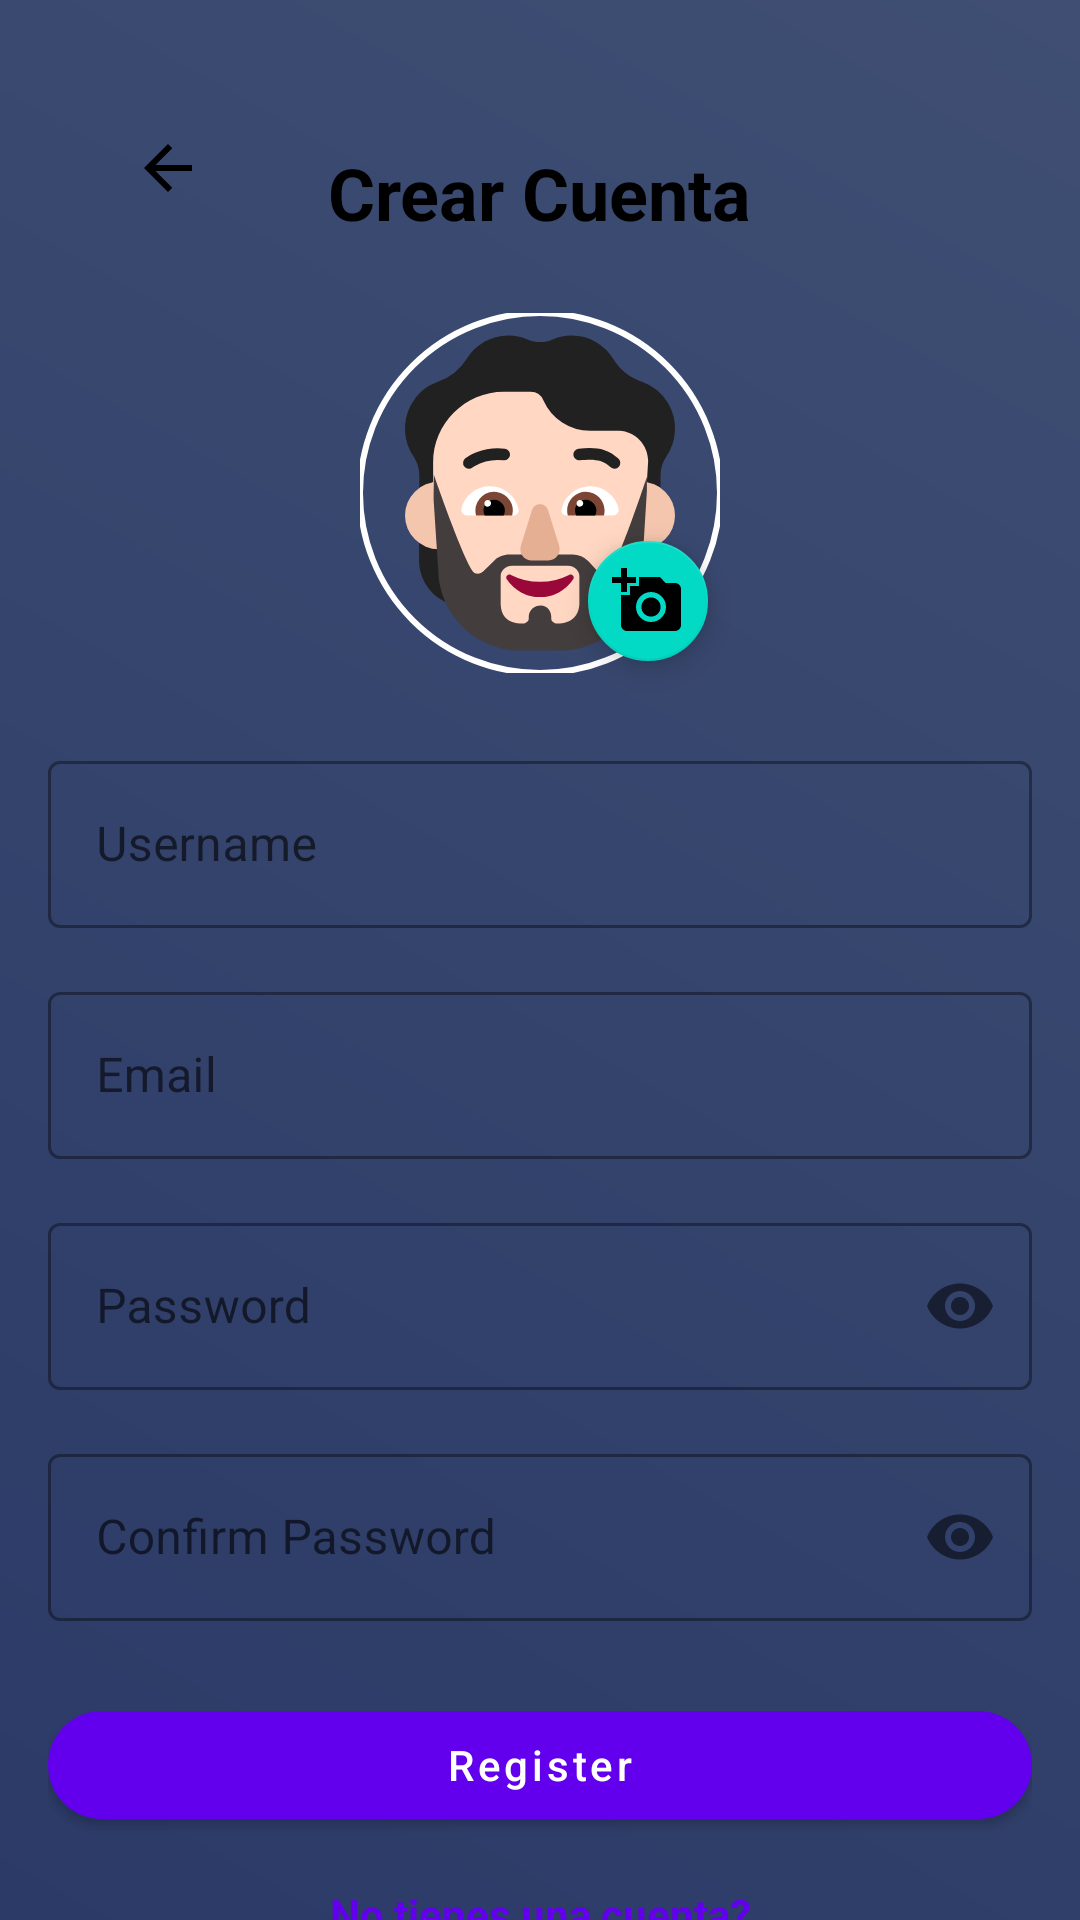

Named icons in this screenshot (1080 × 1920) and their centers, (x,y):
Botón de regreso: (168,168)
